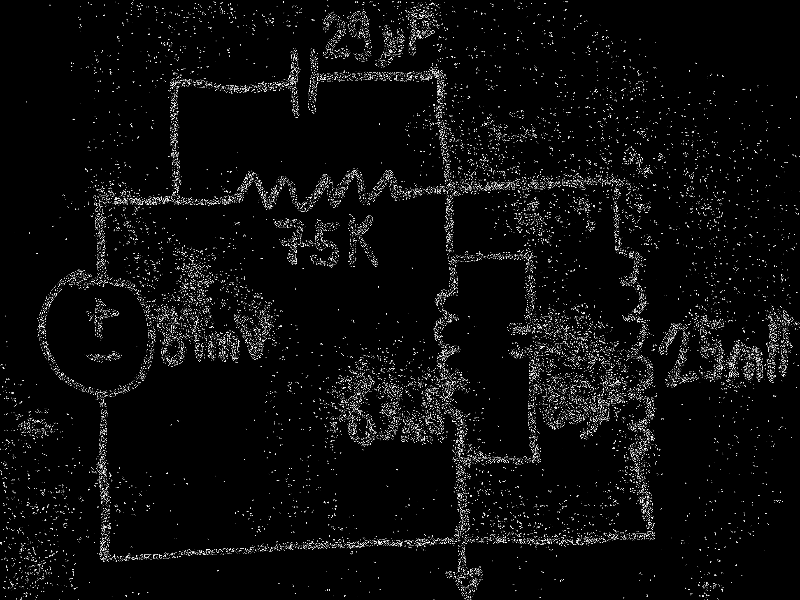-: (81, 350, 122, 364)
2: (658, 319, 699, 393), (318, 11, 351, 63)
3: (376, 384, 405, 444)
5: (695, 314, 726, 386), (312, 218, 342, 273), (568, 379, 589, 425)
6: (345, 372, 377, 449)
7: (268, 215, 312, 274)
8: (155, 307, 188, 375), (542, 372, 569, 432)
9: (348, 6, 377, 64)
F: (406, 9, 436, 57), (601, 379, 622, 425)
H: (765, 311, 789, 383), (423, 404, 445, 445)
V: (241, 311, 276, 361)
k: (343, 210, 382, 273)
m: (725, 339, 765, 388), (191, 327, 242, 365), (399, 419, 427, 444)
u: (378, 26, 407, 68), (586, 395, 603, 438)
